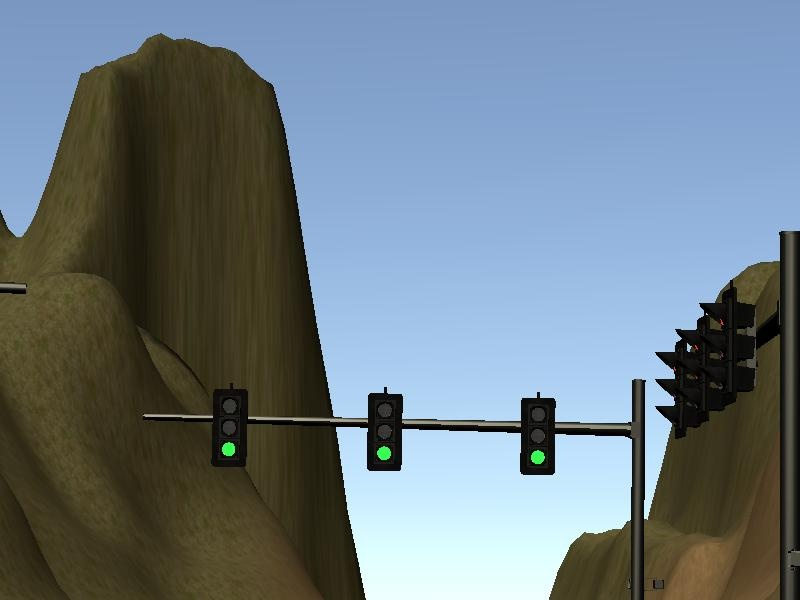green: (366, 391, 403, 471), (522, 397, 557, 478), (212, 385, 245, 465)
